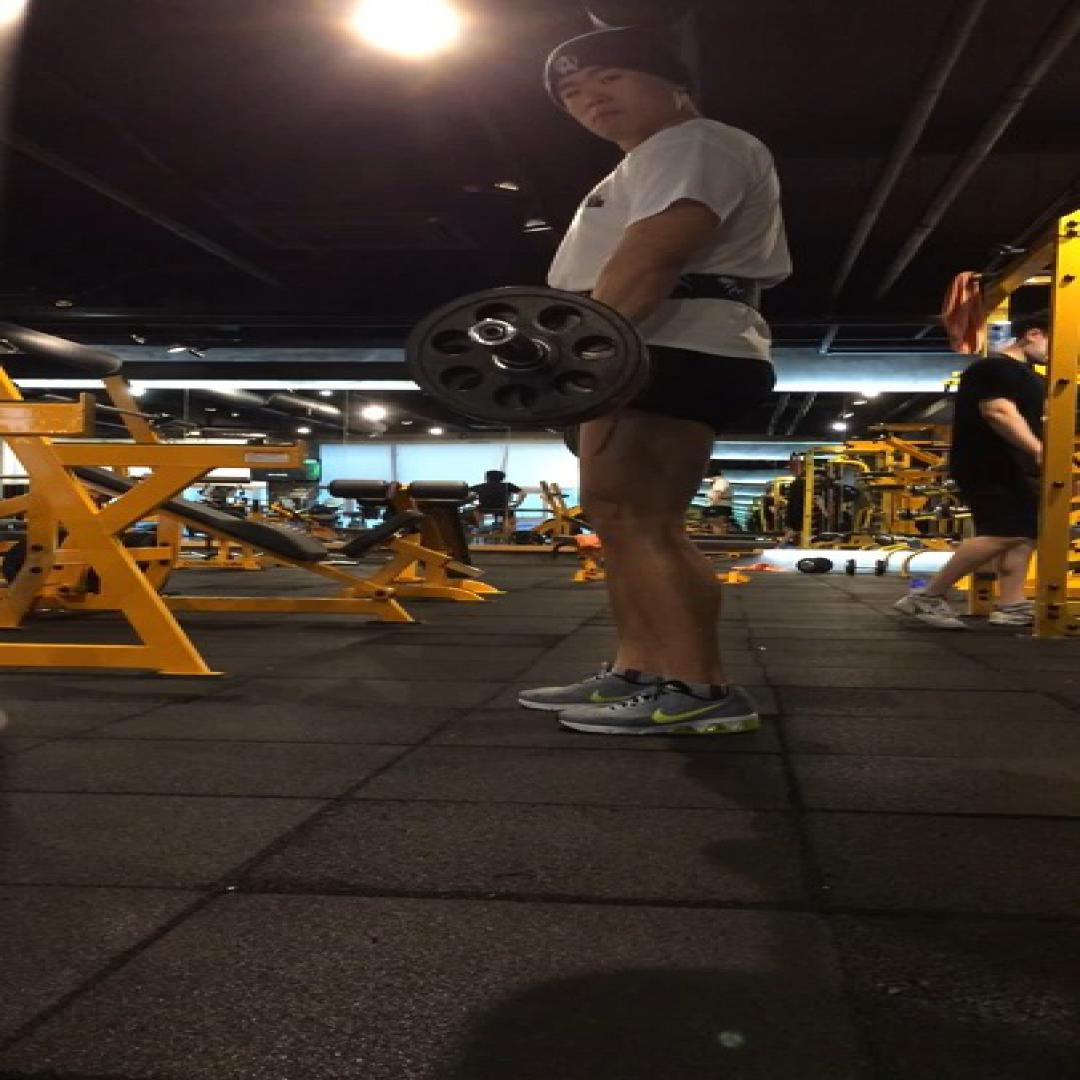Bar: (466, 316, 518, 346)
Barbell: (402, 285, 646, 427)
